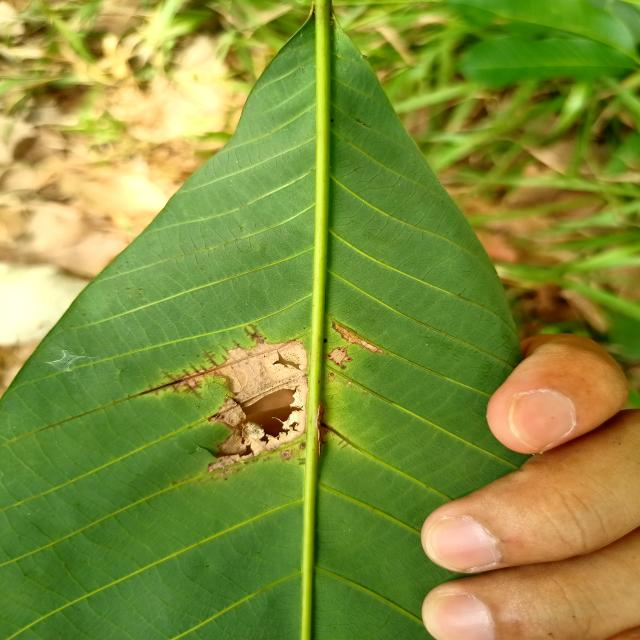Colletotrichum: (329, 372, 335, 377)
Corynespora: (132, 348, 221, 400)
Leaf-Blight: (207, 338, 309, 472), (333, 324, 382, 354), (327, 348, 352, 365)
